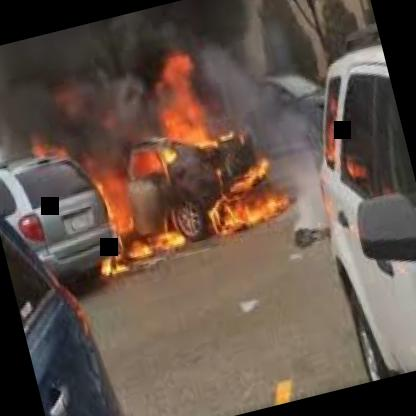fire: (28, 1, 290, 262)
